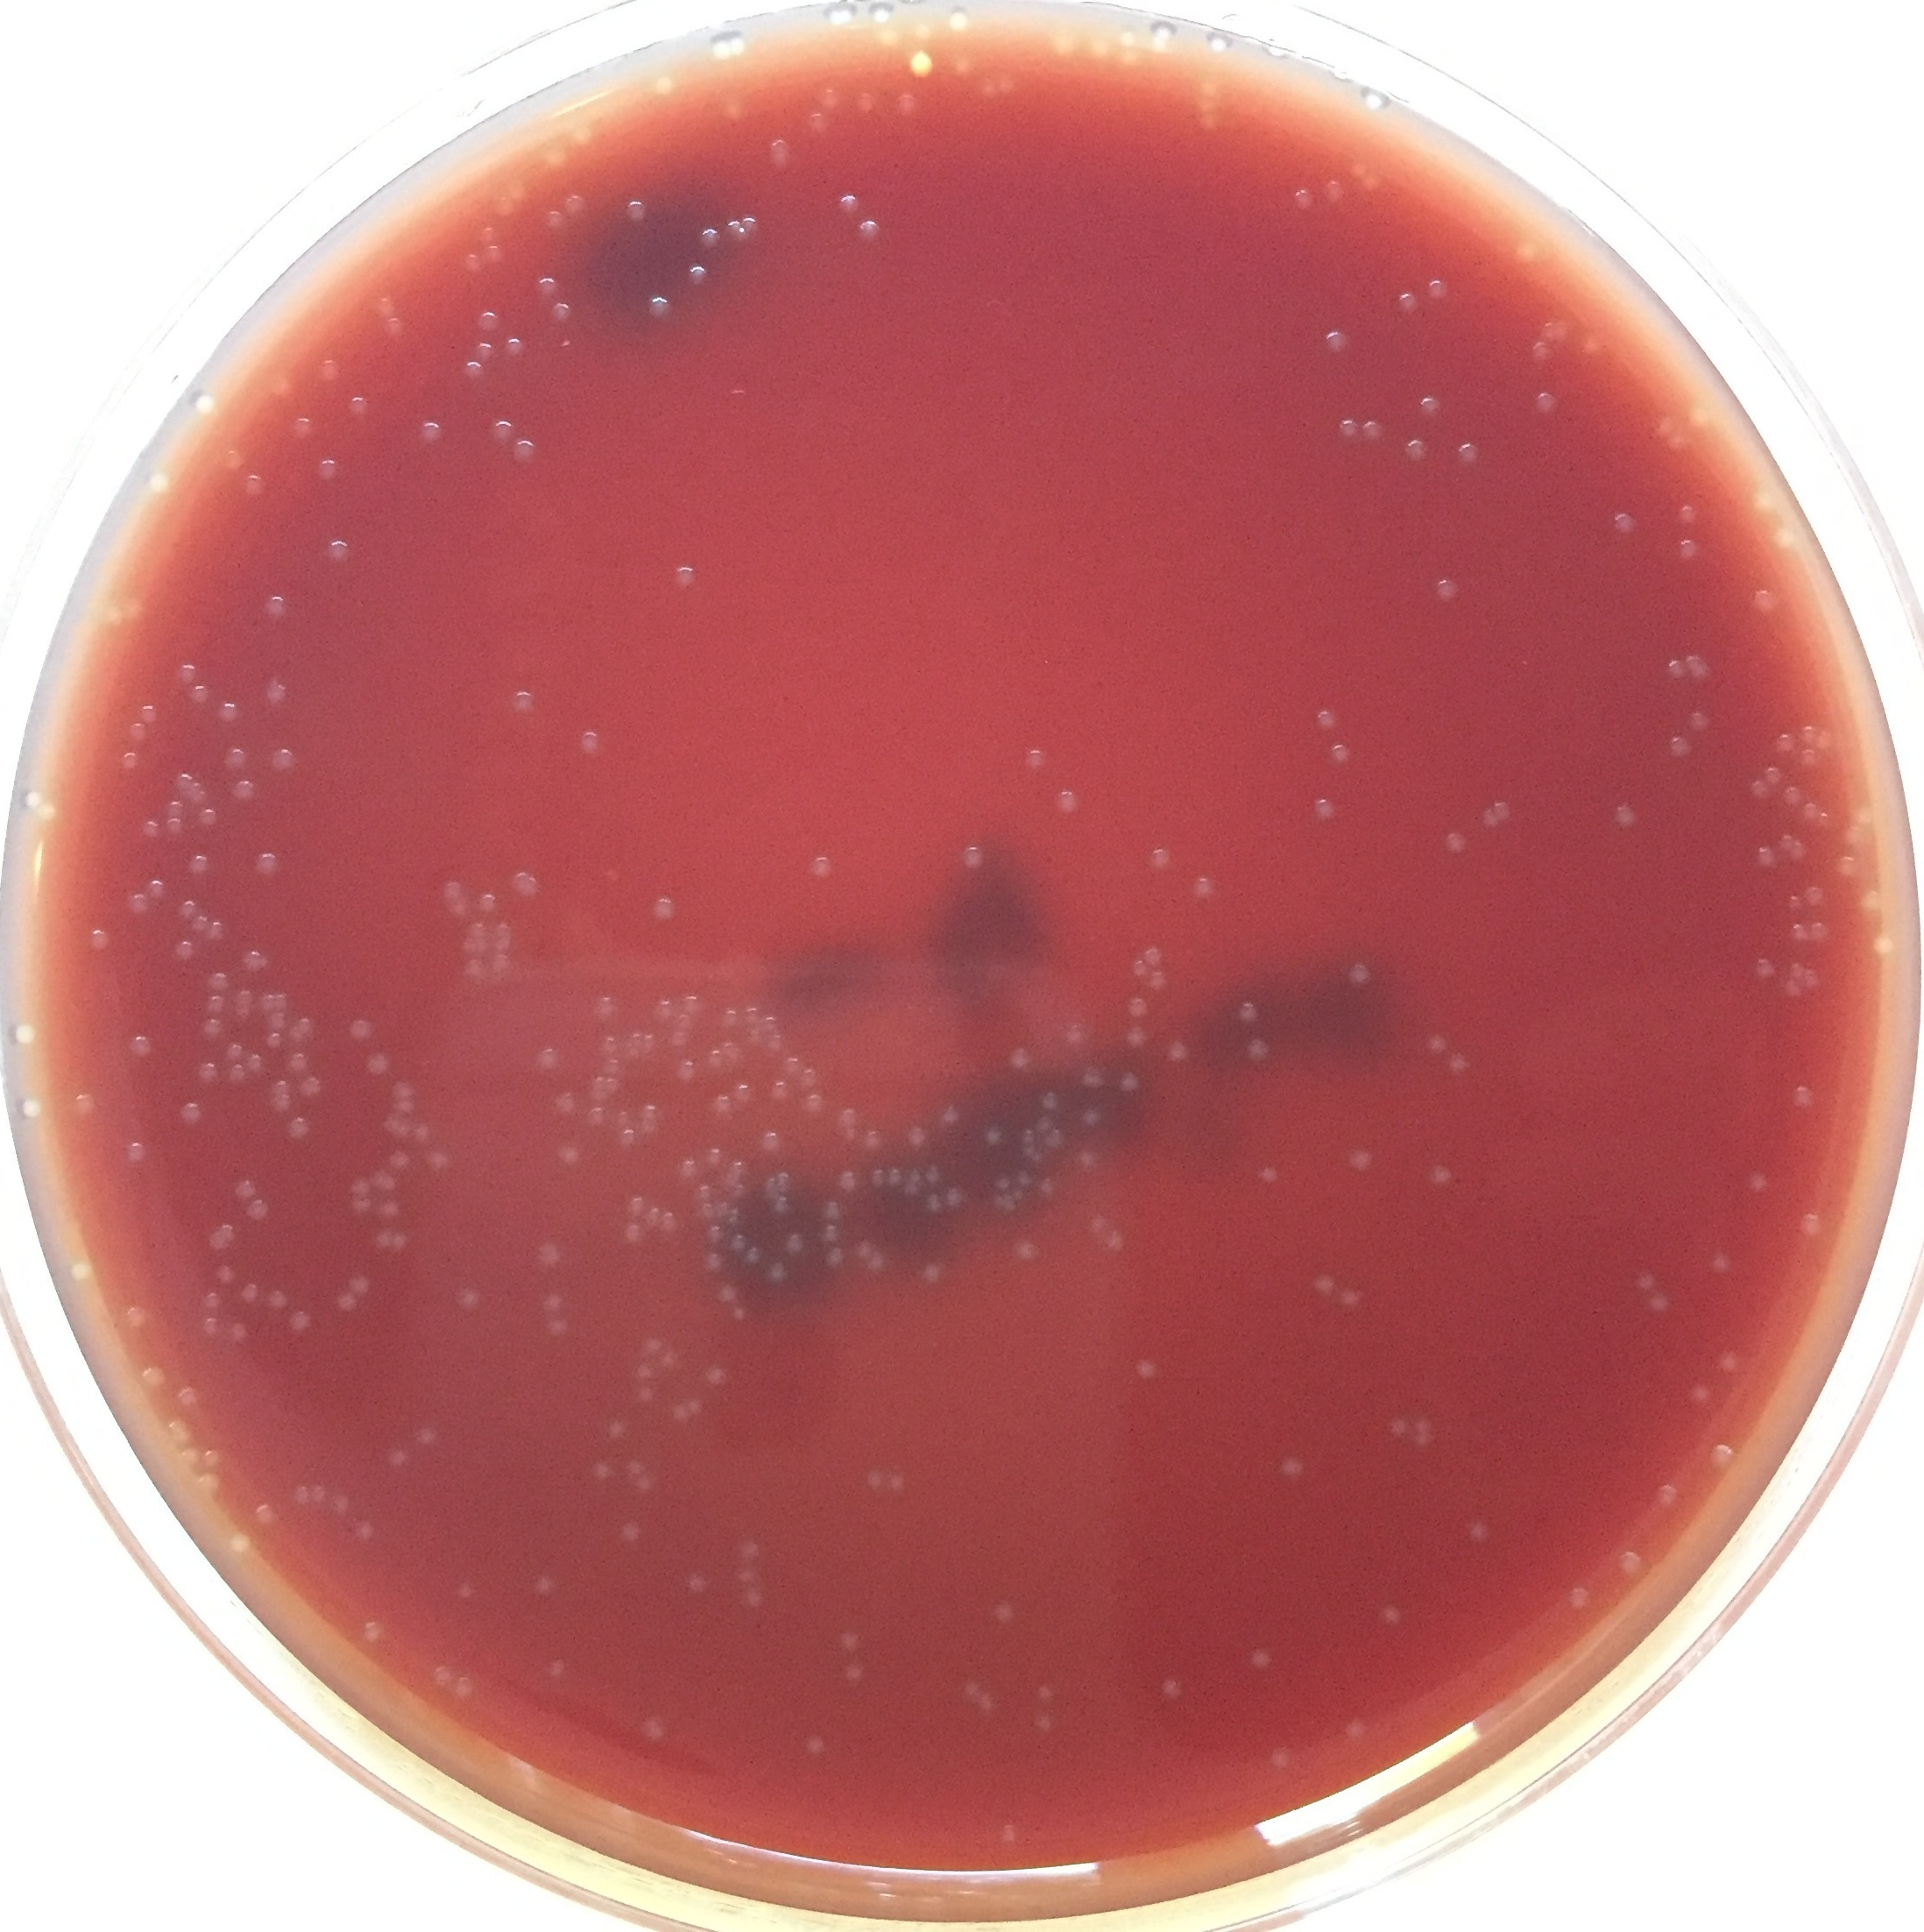sp10: (1267, 1733, 1318, 1784), (1015, 1673, 1068, 1710), (571, 717, 615, 762), (805, 844, 840, 895), (1242, 1639, 1288, 1678), (511, 439, 553, 479), (1154, 1673, 1195, 1715), (1609, 1542, 1649, 1583), (1045, 779, 1084, 821), (648, 888, 685, 933), (449, 1283, 486, 1327), (1272, 1447, 1309, 1490), (1374, 1601, 1417, 1638), (1646, 1481, 1690, 1516), (354, 1616, 393, 1655), (955, 837, 990, 880), (1607, 793, 1642, 836), (985, 1814, 1027, 1849), (1043, 25, 1077, 69), (506, 869, 550, 903), (261, 592, 300, 629), (1140, 843, 1179, 880), (1748, 583, 1785, 622), (1529, 384, 1565, 425), (763, 137, 795, 182), (132, 1361, 169, 1398), (550, 1141, 587, 1178), (1022, 1710, 1062, 1743), (204, 1213, 236, 1255), (664, 561, 708, 591), (800, 1729, 837, 1765), (1517, 240, 1554, 275), (999, 1042, 1034, 1079), (855, 215, 888, 254), (211, 693, 243, 733), (962, 1676, 994, 1717), (1684, 1377, 1716, 1417), (1344, 1146, 1380, 1181), (803, 111, 837, 148), (1015, 744, 1048, 781), (847, 83, 879, 122), (1129, 1354, 1161, 1393), (1336, 1705, 1367, 1743), (1450, 437, 1492, 465), (1411, 1416, 1439, 1458), (1706, 1442, 1748, 1470), (647, 62, 680, 97), (411, 416, 444, 451), (1790, 1079, 1824, 1114), (1307, 793, 1339, 830), (826, 1103, 858, 1141), (1609, 508, 1640, 545), (310, 448, 340, 487), (677, 263, 717, 291), (248, 848, 282, 881), (504, 684, 537, 717), (1240, 1035, 1276, 1066), (1794, 1209, 1825, 1245), (1008, 1237, 1040, 1273), (284, 416, 321, 446), (588, 987, 618, 1024), (458, 955, 486, 994), (532, 1243, 571, 1271), (527, 1287, 566, 1315), (699, 1359, 728, 1398), (67, 1088, 99, 1121), (259, 1283, 292, 1315), (340, 1192, 374, 1223), (1320, 326, 1351, 360), (1771, 527, 1802, 561), (1348, 957, 1380, 991), (1417, 390, 1447, 425), (1336, 1282, 1365, 1317), (189, 386, 217, 423), (640, 1712, 666, 1750), (645, 294, 677, 326), (546, 1088, 578, 1119), (832, 187, 862, 220), (326, 534, 356, 568), (1540, 319, 1580, 344), (122, 1297, 150, 1333), (1431, 571, 1459, 606), (1251, 1162, 1286, 1190), (1425, 1162, 1461, 1190), (941, 1100, 966, 1139), (264, 372, 296, 402), (344, 391, 375, 421), (502, 335, 532, 367), (123, 1029, 153, 1061), (63, 1259, 93, 1290), (423, 1148, 453, 1179), (226, 1528, 257, 1558), (539, 1653, 571, 1683), (617, 1520, 648, 1549), (988, 1595, 1020, 1625), (1401, 437, 1432, 467), (1744, 1165, 1776, 1195), (1707, 1248, 1737, 1280), (344, 1014, 377, 1042), (532, 1042, 560, 1075), (832, 1624, 865, 1652), (1318, 175, 1346, 208), (1447, 1054, 1475, 1088), (1718, 1343, 1746, 1377), (361, 1049, 388, 1084), (671, 1052, 698, 1088), (707, 1088, 733, 1123), (375, 1190, 400, 1227), (481, 241, 511, 271), (261, 675, 291, 705), (1565, 1583, 1595, 1613), (266, 744, 298, 772), (220, 742, 252, 770), (814, 79, 842, 111), (907, 49, 939, 78), (1082, 33, 1110, 65), (1288, 189, 1316, 220), (176, 1098, 204, 1130), (382, 1444, 411, 1475), (1159, 1035, 1191, 1063), (1124, 1021, 1152, 1052), (146, 469, 173, 502), (116, 744, 143, 777), (953, 51, 980, 85), (1669, 730, 1695, 763), (722, 1162, 747, 1197), (97, 598, 120, 635), (485, 418, 514, 446), (1189, 871, 1217, 901), (12, 1017, 41, 1047), (162, 1419, 192, 1447), (206, 1259, 236, 1287), (241, 945, 271, 973), (1334, 418, 1362, 448), (550, 333, 580, 361), (314, 353, 340, 384), (120, 594, 146, 626), (229, 776, 255, 807), (453, 1578, 479, 1609), (1441, 825, 1468, 857), (1466, 1518, 1492, 1549), (529, 273, 562, 298), (1193, 113, 1226, 137), (455, 1673, 477, 1708), (1750, 950, 1772, 985), (1753, 843, 1776, 878), (620, 196, 648, 224), (474, 307, 502, 335), (1115, 1068, 1143, 1096), (1078, 1209, 1106, 1237), (569, 120, 596, 150), (240, 471, 266, 501), (1196, 72, 1226, 99), (352, 1518, 379, 1548), (1069, 1148, 1099, 1174), (381, 312, 412, 337), (717, 106, 749, 130), (173, 1387, 210, 1408), (292, 1074, 324, 1098), (1360, 414, 1385, 446), (1230, 999, 1262, 1024), (877, 19, 900, 53), (495, 918, 518, 952), (733, 1562, 766, 1585), (1311, 1264, 1334, 1297), (559, 187, 585, 215), (458, 358, 486, 384), (183, 851, 210, 880), (88, 927, 115, 955), (204, 966, 233, 992), (634, 1103, 661, 1132), (430, 1659, 451, 1694), (682, 1569, 710, 1595), (839, 1661, 865, 1689), (657, 1206, 678, 1241), (902, 1125, 929, 1153), (980, 1121, 1006, 1149), (1674, 539, 1702, 566), (1684, 652, 1713, 679), (1869, 934, 1898, 961), (1646, 1292, 1672, 1320), (363, 291, 393, 316), (470, 340, 500, 365), (19, 1096, 44, 1126), (236, 1276, 261, 1306), (287, 1308, 312, 1338), (916, 1259, 946, 1283), (765, 1079, 789, 1109), (798, 1089, 828, 1114), (1080, 1063, 1105, 1093), (1425, 1029, 1450, 1059), (536, 1569, 559, 1601), (675, 1151, 698, 1183), (893, 92, 920, 118), (289, 1121, 315, 1148), (266, 1093, 292, 1119), (192, 1061, 218, 1088), (366, 1229, 393, 1255), (583, 1102, 610, 1128), (218, 444, 243, 472), (603, 860, 627, 888), (291, 1010, 315, 1038), (699, 1250, 724, 1278), (765, 1262, 789, 1290), (1686, 707, 1711, 735), (1834, 853, 1859, 881), (1008, 1167, 1032, 1195), (703, 1141, 726, 1170), (1751, 485, 1774, 515), (1862, 883, 1885, 913), (550, 294, 571, 326), (146, 871, 167, 903), (167, 938, 199, 959), (784, 1232, 805, 1264), (136, 700, 162, 724), (125, 721, 150, 747), (196, 804, 222, 829), (477, 890, 502, 917), (291, 1047, 315, 1074), (411, 1424, 437, 1449), (680, 987, 705, 1014), (197, 1475, 224, 1500), (736, 1590, 763, 1615), (837, 1167, 862, 1193), (1395, 291, 1422, 316), (1332, 744, 1358, 769), (1080, 1105, 1105, 1132), (1799, 885, 1825, 910), (1105, 1230, 1129, 1257), (187, 679, 210, 707), (347, 1269, 375, 1292), (248, 1199, 271, 1227), (125, 892, 148, 920), (173, 892, 196, 920), (597, 1054, 625, 1077), (714, 1280, 742, 1303), (731, 1082, 754, 1111), (1066, 1019, 1089, 1047), (1806, 920, 1829, 948), (1781, 784, 1804, 813), (1794, 721, 1817, 749), (1034, 1086, 1062, 1109), (537, 1319, 567, 1340), (1771, 728, 1792, 758), (386, 1079, 418, 1098), (123, 1137, 148, 1162), (252, 1500, 277, 1525), (819, 1197, 844, 1222), (1676, 501, 1700, 525), (476, 219, 502, 241), (541, 206, 564, 233), (698, 229, 721, 256), (442, 892, 469, 915), (271, 991, 294, 1017), (490, 954, 516, 977), (1529, 342, 1556, 365), (1686, 404, 1709, 430), (1667, 434, 1690, 460), (1124, 996, 1151, 1019), (1381, 1414, 1404, 1440), (460, 247, 481, 275), (39, 800, 60, 829), (199, 989, 227, 1010), (372, 1172, 400, 1193), (650, 998, 671, 1026), (590, 1458, 611, 1486), (863, 1468, 884, 1497), (1427, 275, 1448, 303), (1660, 654, 1681, 682), (736, 1539, 766, 1558), (1635, 1264, 1654, 1294), (1313, 707, 1336, 732), (333, 1294, 358, 1317), (199, 1012, 222, 1037), (715, 1202, 740, 1225), (823, 1248, 847, 1271), (863, 1130, 886, 1155), (1362, 169, 1387, 192), (486, 197, 513, 219), (173, 658, 194, 684), (911, 19, 932, 46), (1110, 51, 1142, 69), (1191, 95, 1223, 113), (233, 1172, 254, 1199), (388, 1149, 414, 1170), (594, 1035, 620, 1056), (819, 1220, 840, 1246), (795, 1063, 816, 1089), (1147, 970, 1168, 996), (196, 1292, 224, 1312), (226, 1326, 254, 1345), (372, 1116, 400, 1135), (668, 1029, 696, 1049), (927, 1190, 946, 1218), (294, 1482, 312, 1512), (995, 74, 1018, 97), (1115, 28, 1138, 51), (227, 1065, 250, 1088), (263, 1008, 285, 1031), (759, 1128, 782, 1151), (1580, 335, 1603, 358), (1799, 749, 1822, 772), (539, 148, 564, 169), (506, 178, 527, 203), (740, 215, 761, 240), (222, 1038, 243, 1063), (393, 1095, 418, 1116), (391, 1230, 412, 1255), (585, 1075, 606, 1100), (615, 1132, 640, 1153), (670, 1403, 691, 1428), (1143, 943, 1165, 968), (976, 78, 995, 104), (414, 1121, 440, 1141), (606, 1417, 625, 1444), (888, 1468, 907, 1495), (622, 1220, 641, 1246), (1764, 762, 1781, 790), (245, 1051, 266, 1074), (203, 1444, 224, 1467), (742, 1245, 765, 1266), (1492, 797, 1513, 820), (1781, 977, 1802, 999), (1038, 1181, 1061, 1202), (190, 910, 210, 934), (229, 1003, 254, 1022), (255, 991, 275, 1015), (625, 1192, 645, 1216), (761, 1176, 781, 1200), (782, 1054, 802, 1079), (992, 1197, 1017, 1216), (724, 215, 742, 241), (180, 1445, 197, 1472), (1748, 779, 1765, 806), (439, 876, 460, 897), (206, 918, 227, 940), (645, 1204, 661, 1232), (742, 1003, 763, 1024), (722, 1040, 744, 1061), (946, 1186, 967, 1207), (1043, 1132, 1064, 1153), (164, 820, 187, 839), (613, 1109, 636, 1128), (728, 1229, 747, 1252), (867, 1165, 886, 1188), (345, 1176, 370, 1193), (331, 1491, 349, 1516), (312, 1482, 329, 1507), (886, 1165, 904, 1190), (1802, 800, 1820, 825), (869, 1250, 884, 1276), (141, 816, 160, 837), (199, 1319, 220, 1338), (270, 1074, 289, 1095), (458, 936, 477, 957), (661, 1349, 680, 1370), (638, 1477, 655, 1500), (631, 1363, 654, 1380), (925, 1163, 943, 1186), (1801, 966, 1818, 989), (608, 1077, 622, 1105), (187, 791, 211, 807), (396, 1123, 412, 1148), (643, 1031, 659, 1056), (164, 797, 183, 816), (1792, 843, 1811, 862), (671, 1010, 692, 1028), (643, 1336, 661, 1357), (685, 1398, 703, 1419), (694, 1183, 712, 1204), (707, 1225, 724, 1246), (719, 1008, 736, 1029), (763, 1010, 781, 1031), (705, 1049, 722, 1070), (1778, 829, 1792, 855), (858, 1232, 874, 1255), (629, 1031, 643, 1056), (781, 1165, 795, 1190), (236, 982, 254, 1001), (638, 1384, 655, 1403), (902, 1183, 921, 1200), (1126, 957, 1143, 977), (1036, 1112, 1055, 1130), (476, 936, 492, 957), (1792, 924, 1806, 947), (185, 779, 203, 797), (1785, 961, 1802, 978), (1817, 728, 1834, 746), (21, 790, 37, 809), (264, 1029, 280, 1049), (631, 1456, 647, 1475), (1484, 811, 1499, 830), (1818, 809, 1834, 829), (173, 769, 189, 786), (728, 1304, 744, 1322), (768, 1031, 784, 1049), (747, 1029, 763, 1047), (775, 1200, 789, 1220), (699, 1202, 712, 1223), (1018, 1119, 1034, 1135), (1020, 1142, 1036, 1158), (907, 1163, 921, 1179), (995, 1179, 1010, 1193), (1787, 892, 1797, 910)
